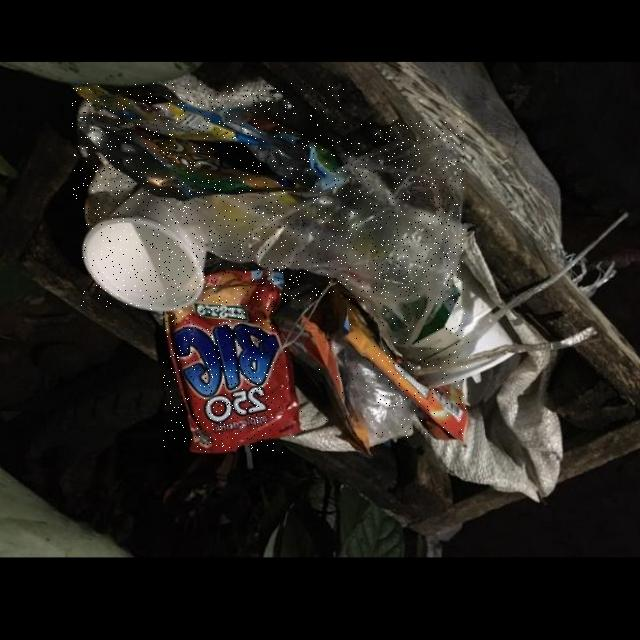plastic: (177, 119, 464, 345), (82, 186, 205, 311)
wrapper: (72, 83, 345, 199), (163, 267, 304, 451), (346, 298, 469, 439), (274, 302, 372, 457)
